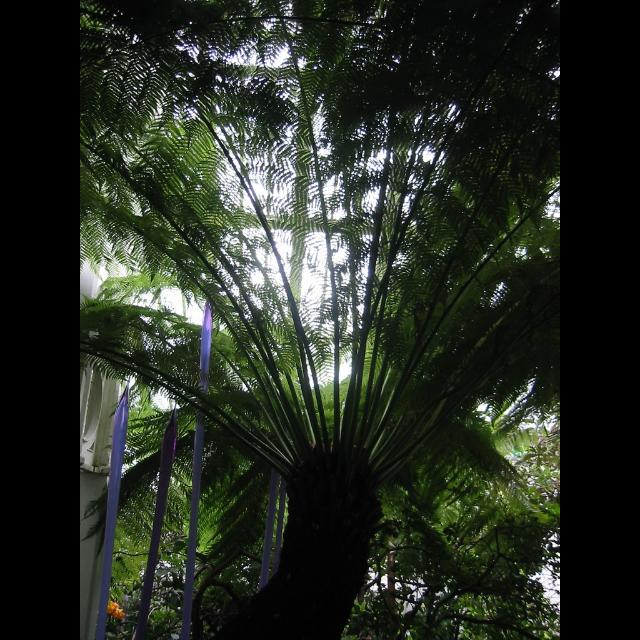Flower: (108, 601, 126, 623)
